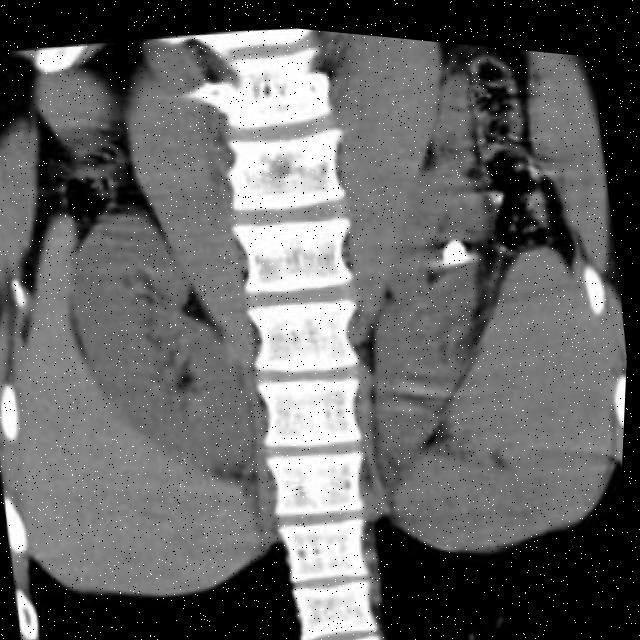Tas_Var: (438, 224, 475, 267)
